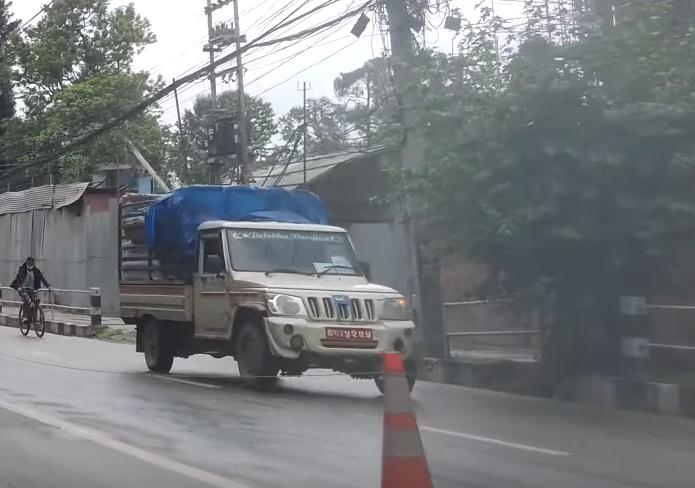transport_vehicle: (124, 179, 431, 399)
